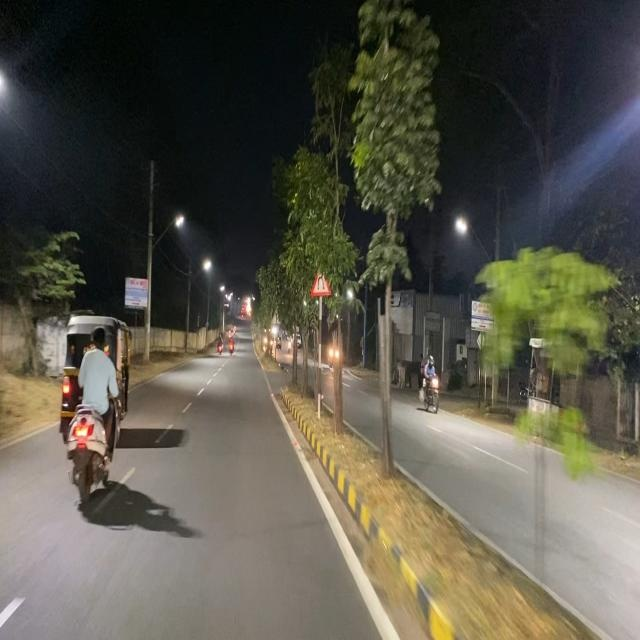bien_nguy_hiem: (310, 264, 332, 297)
